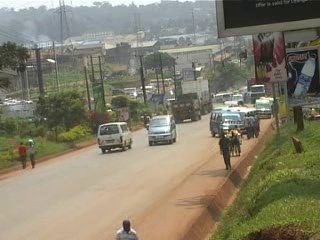Car: (145, 112, 180, 148)
